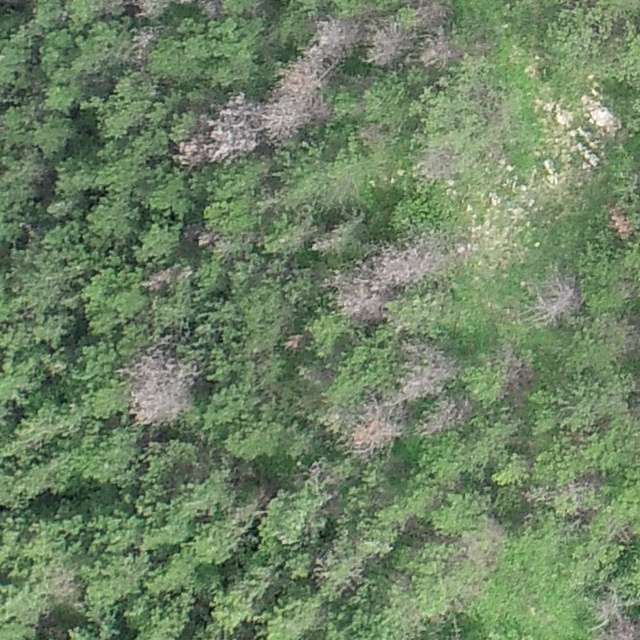unhealthy: (170, 89, 266, 170), (262, 48, 338, 140), (123, 344, 199, 427), (325, 262, 389, 326), (371, 238, 447, 288), (398, 342, 457, 401), (348, 399, 404, 456), (531, 272, 580, 327), (493, 345, 535, 399), (364, 19, 411, 66), (460, 524, 503, 570), (594, 593, 637, 638), (420, 398, 471, 433), (314, 13, 357, 52), (416, 145, 459, 182), (419, 31, 459, 66), (44, 564, 79, 599), (410, 0, 453, 28), (125, 26, 158, 62), (142, 264, 182, 292), (305, 459, 342, 489), (604, 208, 635, 239), (620, 312, 640, 356), (128, 0, 168, 18), (196, 0, 223, 18), (282, 333, 305, 351), (195, 229, 217, 247)
